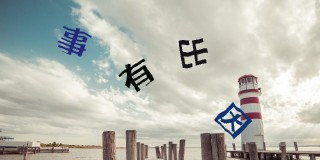事: (58, 26, 92, 57)
出: (178, 38, 208, 69)
因: (214, 102, 252, 139)
有: (118, 59, 155, 92)
